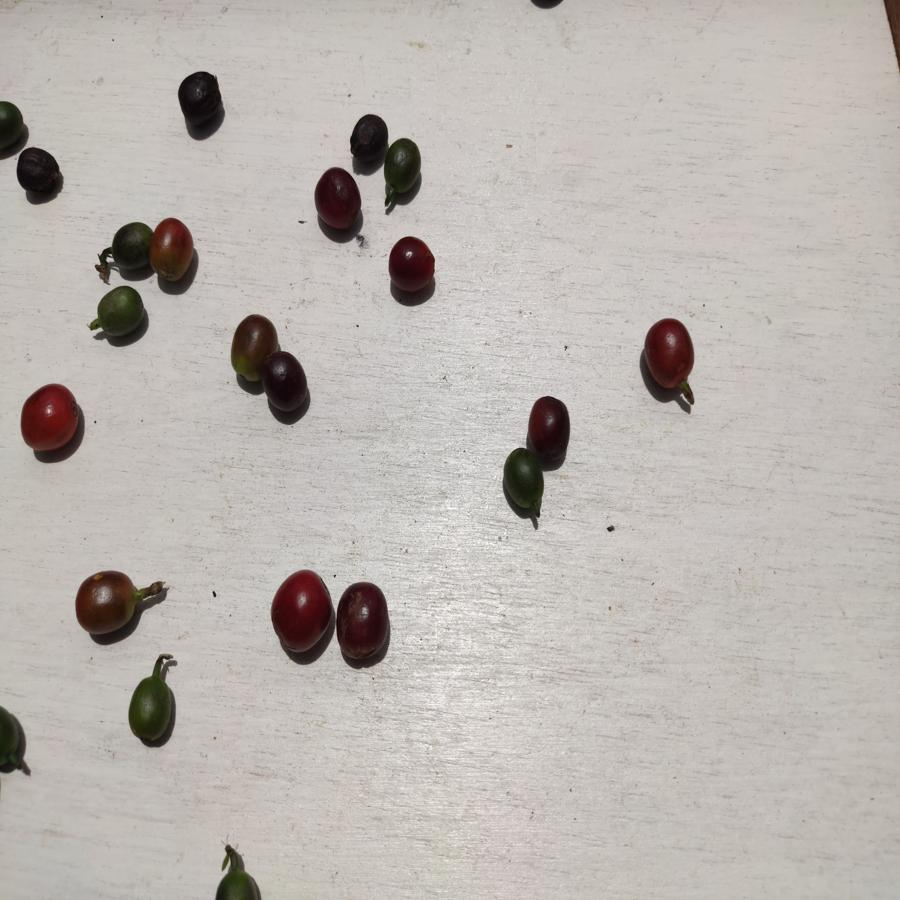Inmaduro: (126, 677, 178, 750), (502, 450, 546, 518), (99, 219, 151, 276), (98, 286, 149, 339), (213, 845, 262, 900), (386, 138, 425, 195)
Maduro: (268, 568, 333, 657), (639, 319, 699, 397), (18, 382, 81, 455)
Pinton: (70, 569, 139, 642), (148, 218, 197, 280), (230, 313, 264, 386)
Sobremaduro: (334, 582, 392, 663), (310, 166, 367, 231), (387, 233, 442, 294), (261, 350, 315, 412), (530, 395, 577, 459), (177, 69, 228, 124), (15, 146, 65, 198), (348, 112, 387, 162)
